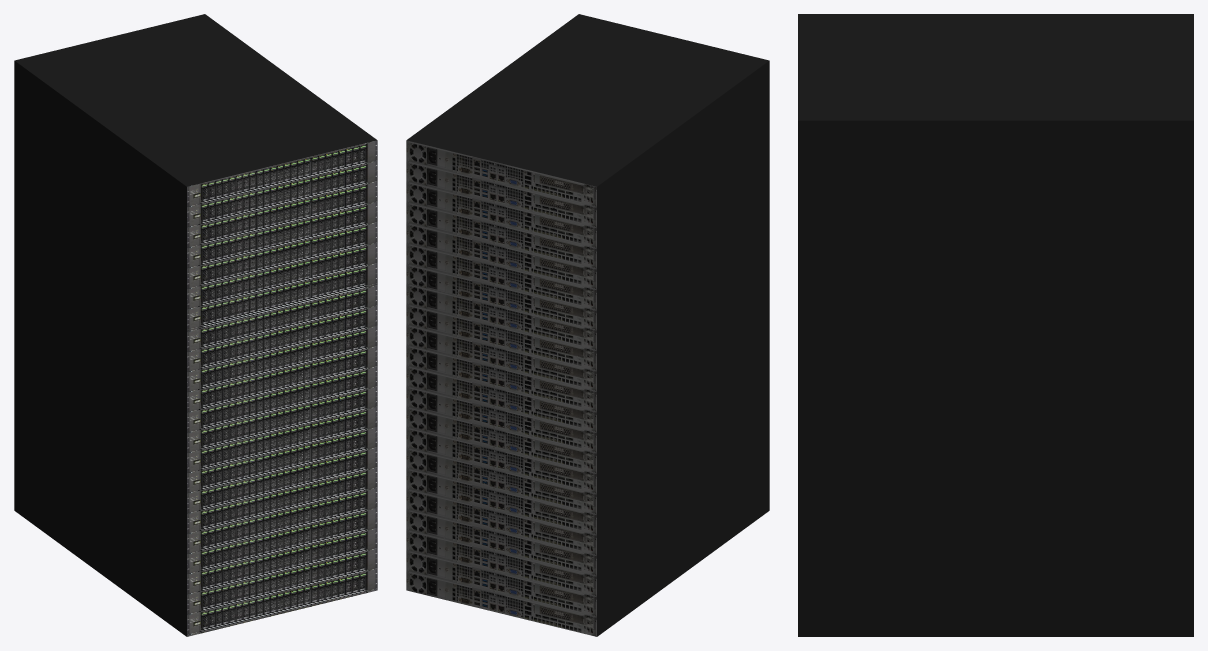
File: ADR22.fbx
3 views of the same model, side by side, from view 1: azimuth 30°, elevation 25°; view 2: azimuth 150°, elevation 25°; view 3: azimuth 270°, elevation 25° (orthographic). The views are drawn at different scales.
Visible parts, largest first — view 1: ADR22; view 2: ADR22; view 3: ADR22.
Boxes of the visible parts, left/top/right/bottom form: ADR22: left=14, top=14, right=377, bottom=636; ADR22: left=406, top=14, right=769, bottom=636; ADR22: left=798, top=14, right=1193, bottom=636.
Bounding box in the file's own units: 434 × 979 × 680.
Materials: 3 (2 with a texture image).
